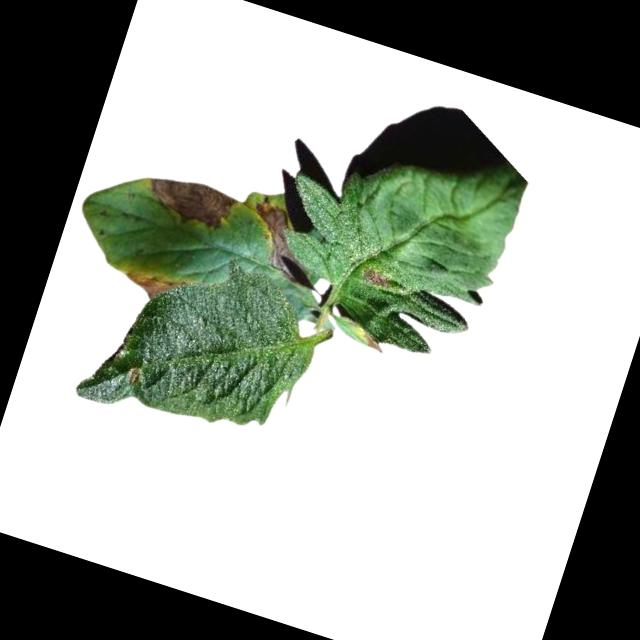Early_blight: (235, 192, 332, 289), (133, 164, 239, 238), (117, 262, 189, 310), (360, 265, 392, 292), (358, 330, 389, 356), (123, 365, 142, 385)
